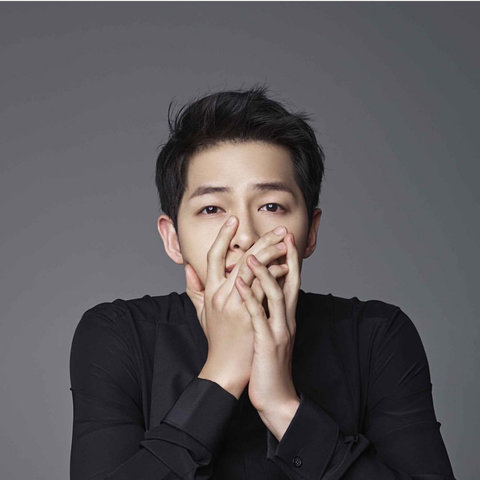face: (176, 136, 306, 308)
